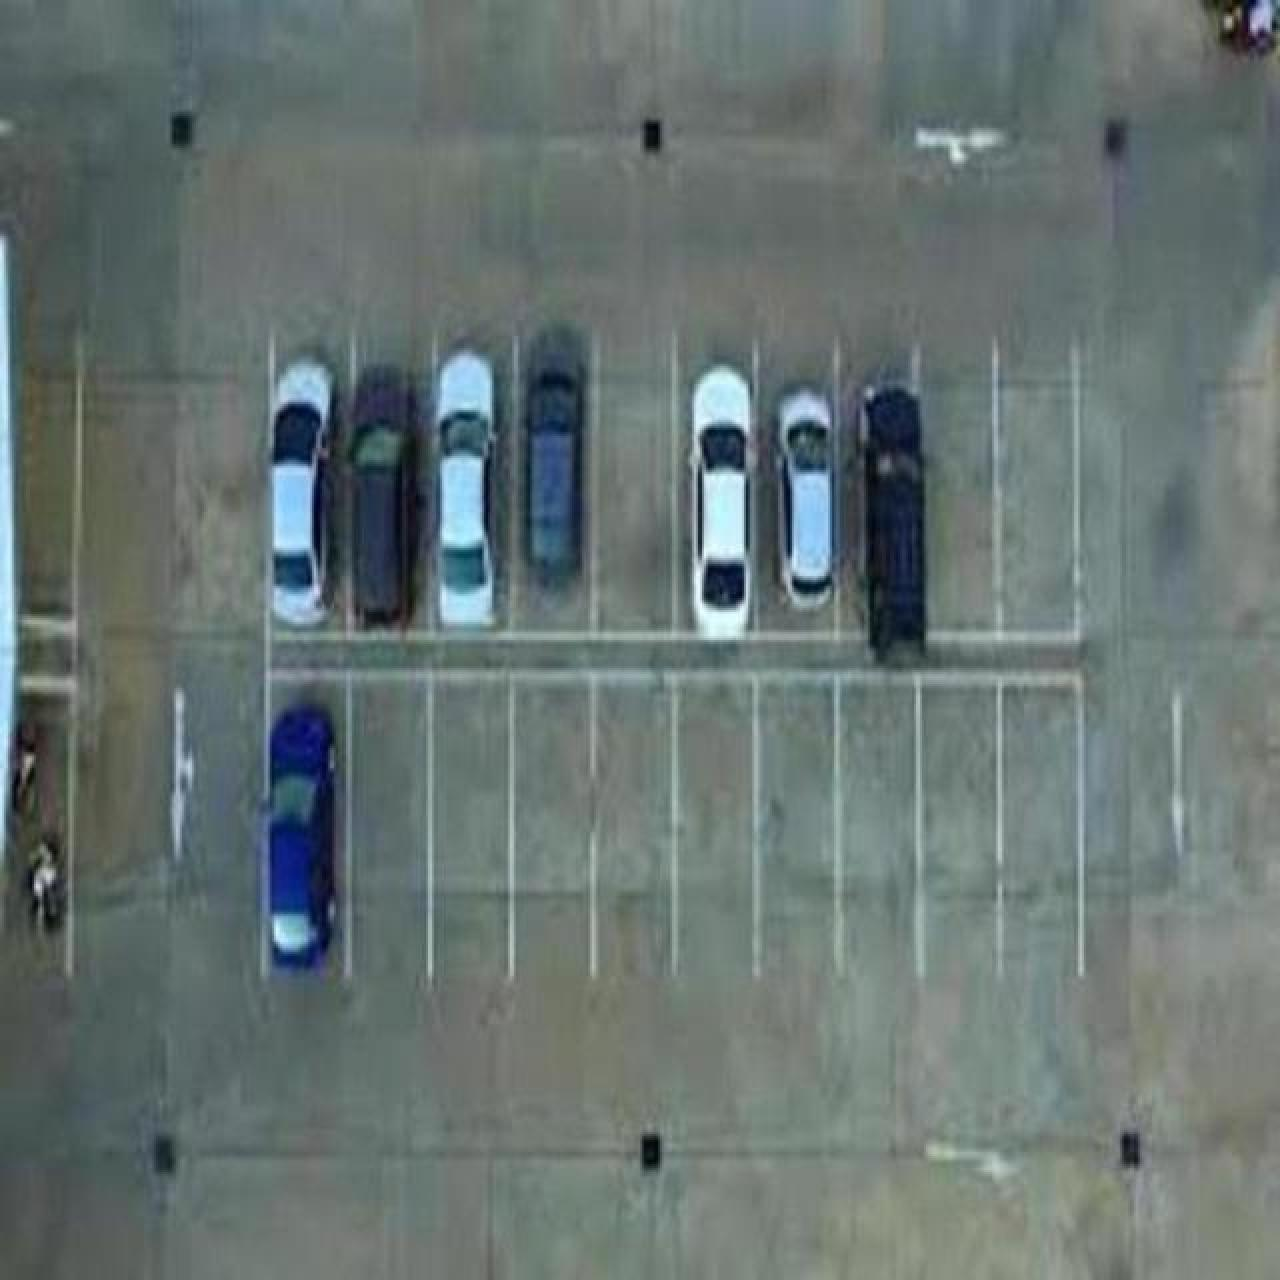car: (427, 343, 504, 629), (341, 366, 422, 632), (857, 382, 926, 667), (266, 353, 338, 628), (264, 704, 338, 971), (685, 359, 754, 642), (520, 326, 585, 605), (768, 383, 837, 613)
